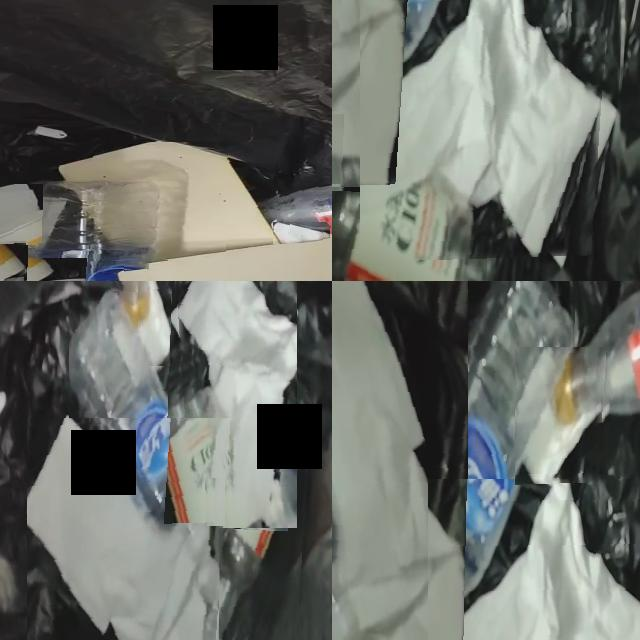bottle: (393, 281, 574, 640), (69, 290, 210, 562), (332, 135, 491, 281), (219, 390, 311, 640), (332, 0, 444, 122), (28, 183, 152, 281), (563, 291, 640, 424), (260, 185, 332, 234)
carton: (59, 142, 278, 261), (127, 235, 332, 281)
paper: (360, 0, 605, 259), (332, 281, 468, 640), (27, 418, 223, 640), (441, 479, 640, 640), (177, 281, 297, 528), (332, 0, 416, 187), (515, 347, 604, 485), (138, 281, 172, 366), (0, 184, 43, 237), (273, 223, 330, 244), (205, 478, 225, 526)
